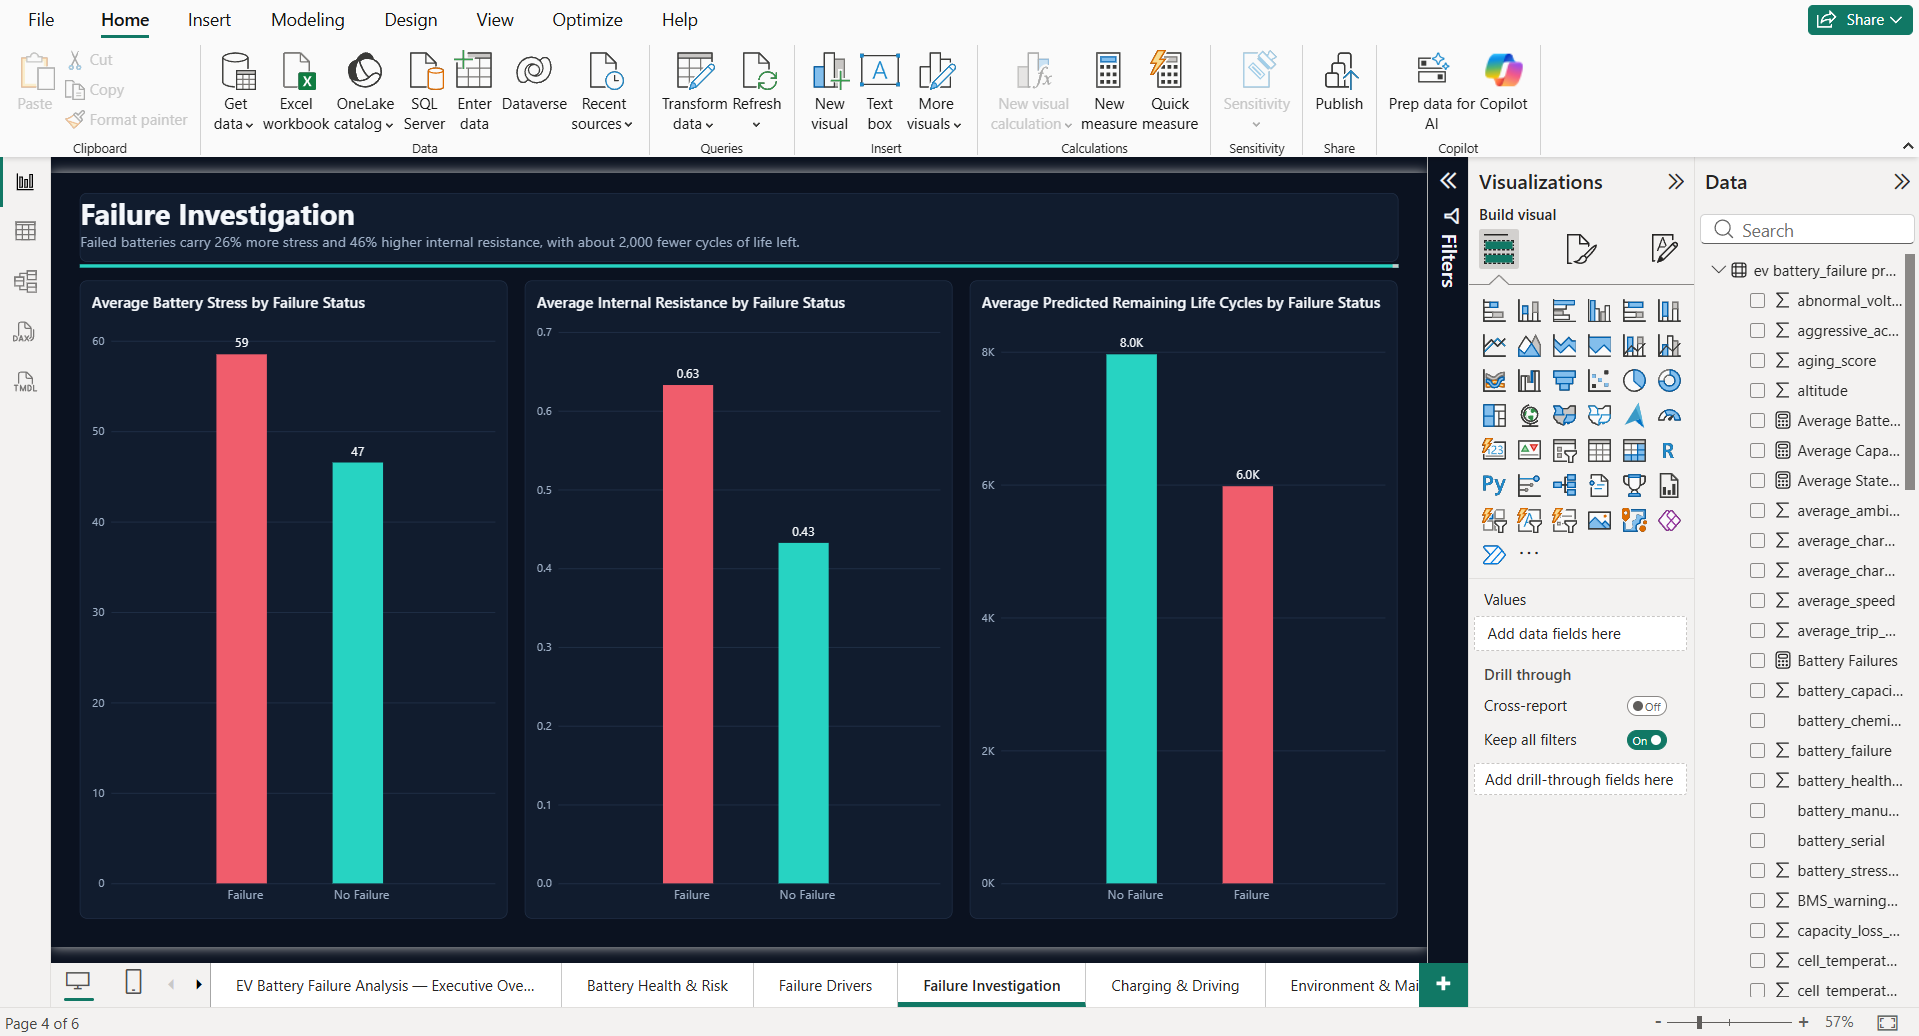

Layout of this report page (visuals, bound fields, positions):
{"tool":"powerbi","page":{"name":"Failure Investigation","canvas":[1920,1080],"ordinal":3},"visuals":[{"type":"clusteredColumnChart","title":"Average Battery Stress by Failure Status","fields":{"Category":["ev battery_failure prediction Dataset.Failure Status Label"],"Y":["Avg(ev battery_failure prediction Dataset.battery_stress_index)"]},"box":[40,150,597,890],"z":0},{"type":"clusteredColumnChart","title":"Average Predicted Remaining Life Cycles by Failure Status","fields":{"Category":["ev battery_failure prediction Dataset.Failure Status Label"],"Y":["Avg(ev battery_failure prediction Dataset.predicted_remaining_life_cycles)"]},"box":[1282,150,597,890],"z":1},{"type":"clusteredColumnChart","title":"Average Internal Resistance by Failure Status","fields":{"Category":["ev battery_failure prediction Dataset.Failure Status Label"],"Y":["Avg(ev battery_failure prediction Dataset.internal_resistance)"]},"box":[661,150,597,890],"z":2},{"type":"textbox","box":[40,28,1840,96],"z":3},{"type":"textbox","box":[40,128,1840,5],"z":50}]}

Visuals, with their boxes on the page's 1920x1080 design canvas (x1, y1, x2, y2). These are canvas units, not pixel positions in the 1919x1036 screenshot, which may show the page scaled, cropped or inside an application window:
"Average Battery Stress by Failure Status" clusteredColumnChart: box(40, 150, 637, 1040)
"Average Predicted Remaining Life Cycles by Failure Status" clusteredColumnChart: box(1282, 150, 1879, 1040)
"Average Internal Resistance by Failure Status" clusteredColumnChart: box(661, 150, 1258, 1040)
textbox: box(40, 28, 1880, 124)
textbox: box(40, 128, 1880, 133)
